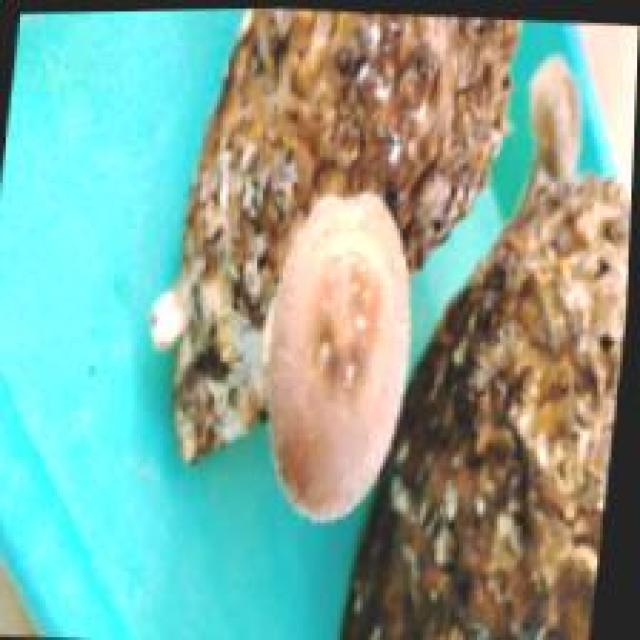chanterelle: (151, 6, 523, 523), (334, 49, 634, 637)
